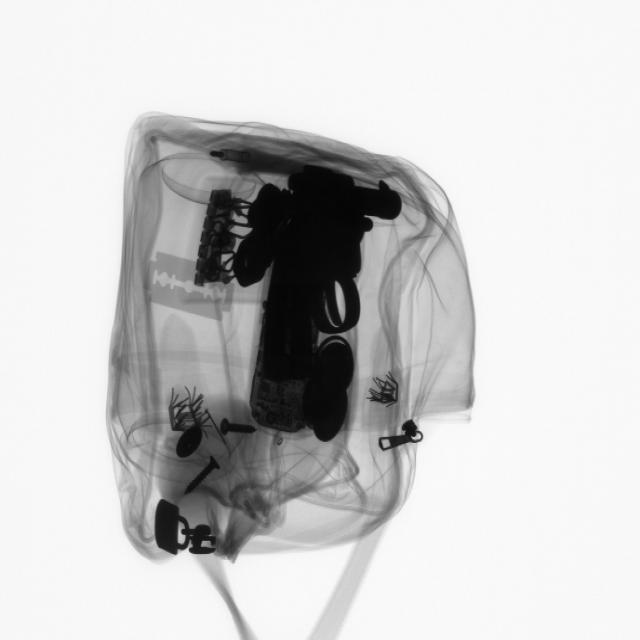BLADE: (136, 246, 240, 339)
GUN: (240, 169, 402, 388)
SCREW: (184, 449, 225, 502)
